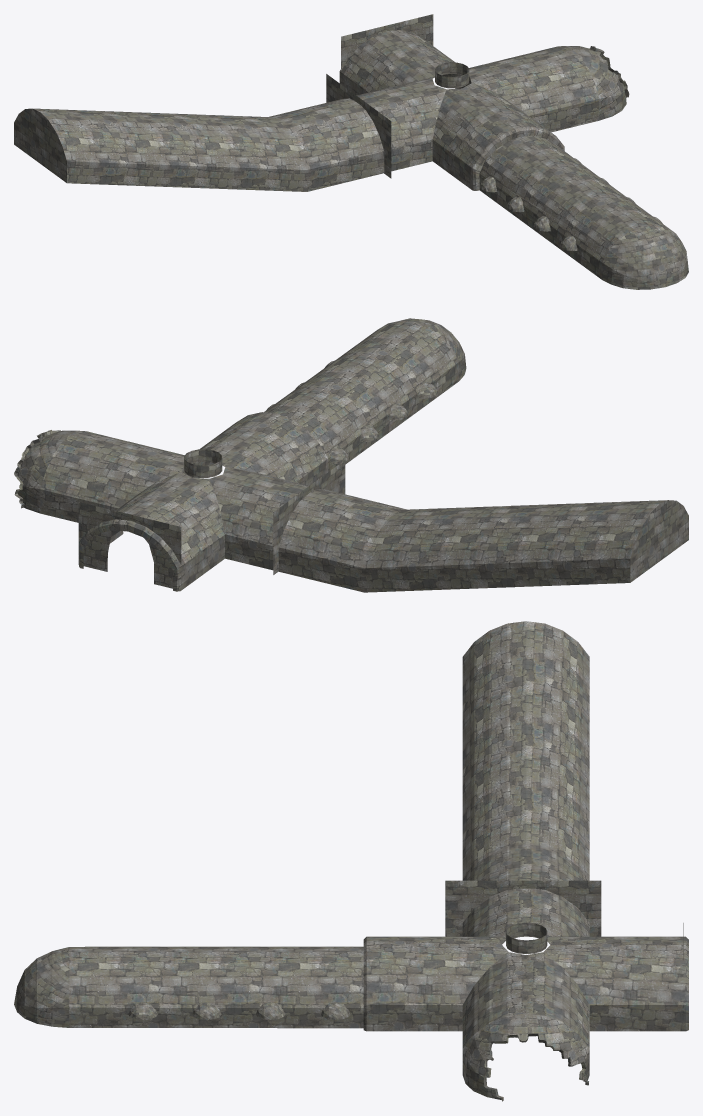
File: Dungeon_Walls_01.FBX
3 views of the same model, one above another, from view 1: azimuth 30°, elevation 25°; view 2: azimuth 150°, elevation 25°; view 3: azimuth 270°, elevation 25° (orthographic). The views are drawn at different scales.
Parts seen in each view (by area): view 1: Dungeon_Walls_01; view 2: Dungeon_Walls_01; view 3: Dungeon_Walls_01.
Boxes of the visible parts, x1,y1,x2,y2 form: Dungeon_Walls_01: [14, 14, 688, 289]; Dungeon_Walls_01: [14, 318, 688, 592]; Dungeon_Walls_01: [14, 621, 688, 1101].
Size of the model in its own units: 67.27 by 13.26 by 56.7.
1 material, 1 textured.
